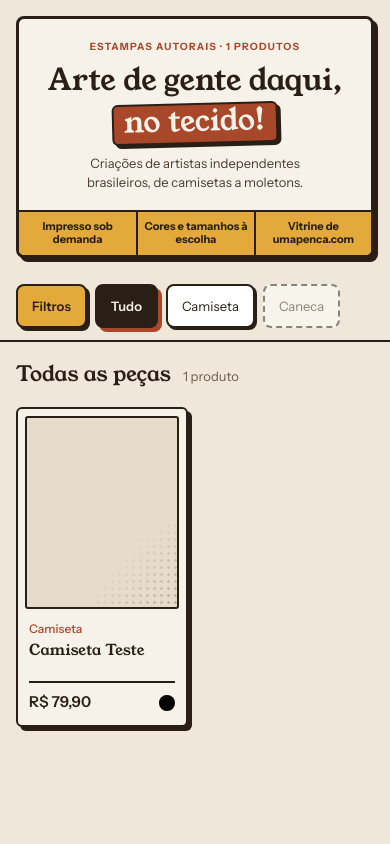
it: CatalogView › no mobile, o botão "Filtros" abre o painel em formato de folha
Click the button with test id "toggle-filters" at (51, 306), box [16,284,87,328]
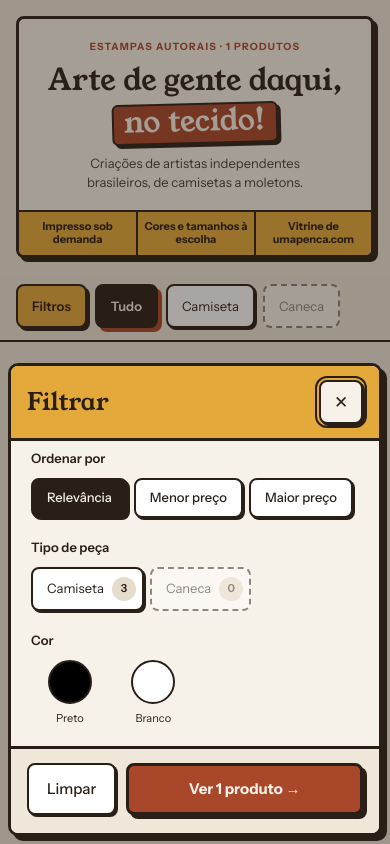
Check: the dialog with test id "filter-sheet" is shown, box [8,363,382,836]
